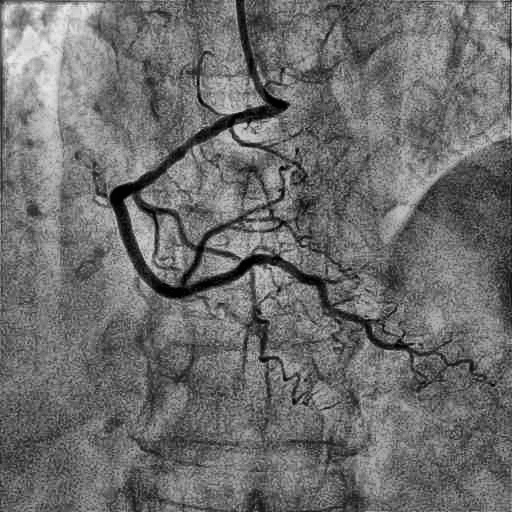pborca: (180, 181, 285, 285)
pda: (189, 254, 449, 363)
rca: (110, 105, 270, 298)
